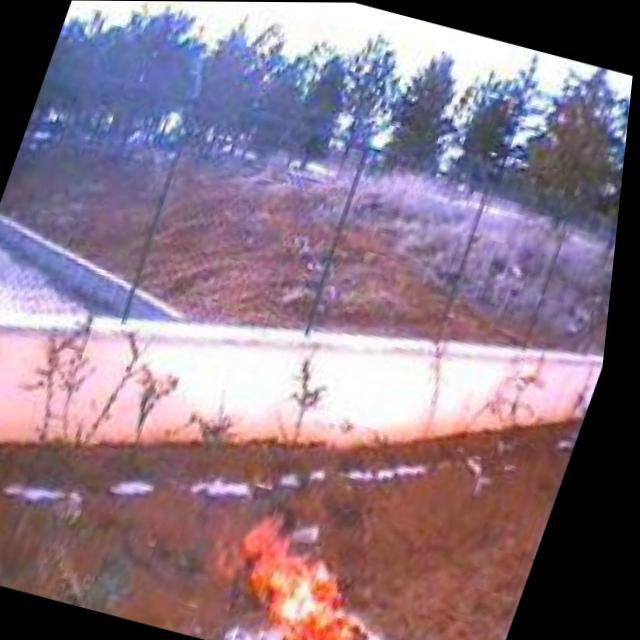fire: (198, 496, 426, 640)
